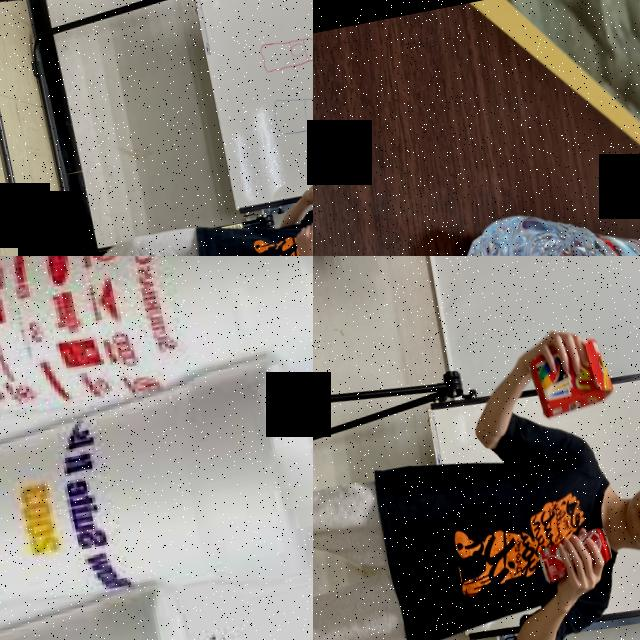bottle: (438, 181, 640, 256)
can: (533, 524, 615, 587)
cup: (0, 344, 313, 640), (0, 256, 313, 496)
